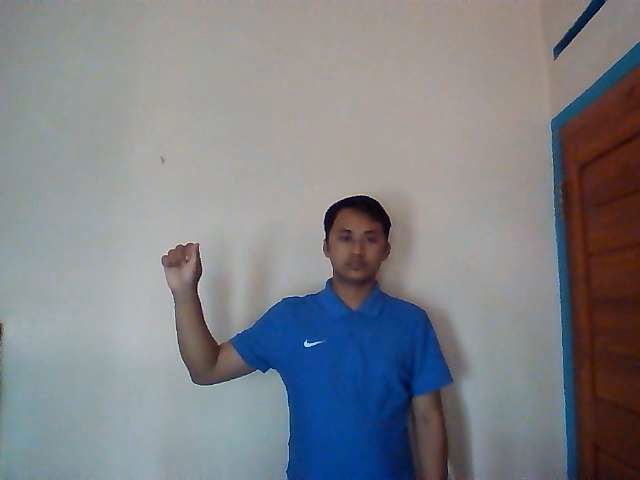A: (160, 241, 204, 289)
